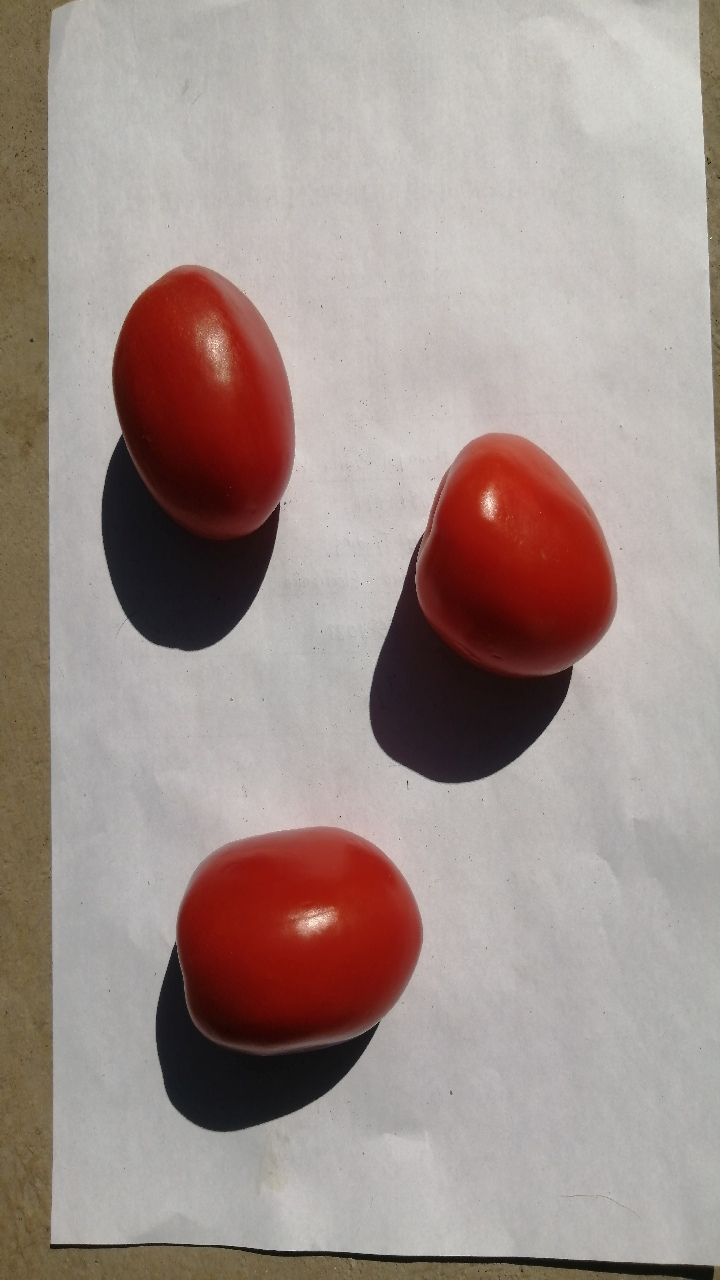tomateRojo: (157, 808, 438, 1092), (389, 408, 640, 694), (100, 243, 311, 540)
